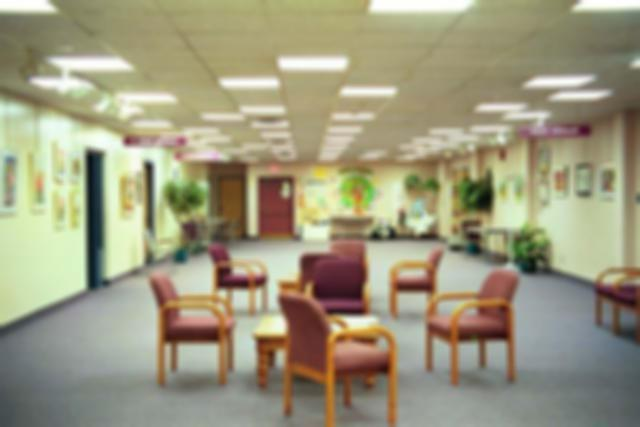Matera: (162, 174, 206, 244), (449, 177, 491, 242), (505, 228, 546, 275)
